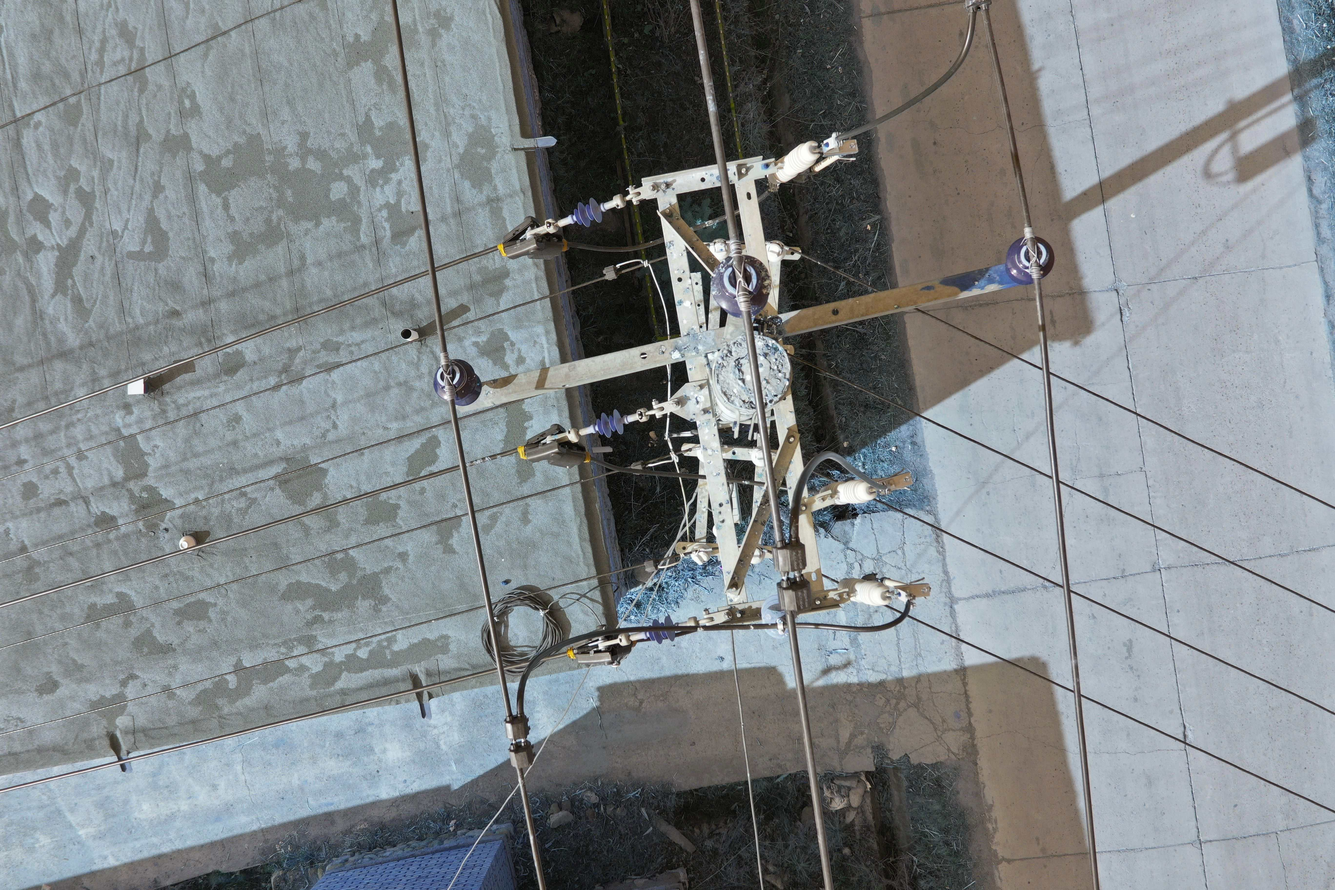severe_soiling_no_discharge_whole: (708, 251, 773, 320), (758, 594, 793, 640)
